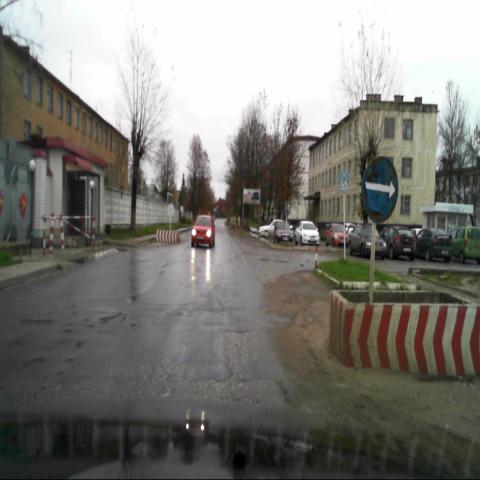4_1_2_1: (362, 156, 398, 225)
